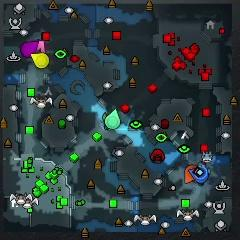p1: (187, 166, 210, 185)
p2: (105, 107, 120, 128)
p3: (20, 40, 39, 57)
p4: (29, 53, 50, 68)
p5: (184, 162, 199, 184)
x1: (37, 39, 44, 52)
x2: (102, 111, 109, 129)
